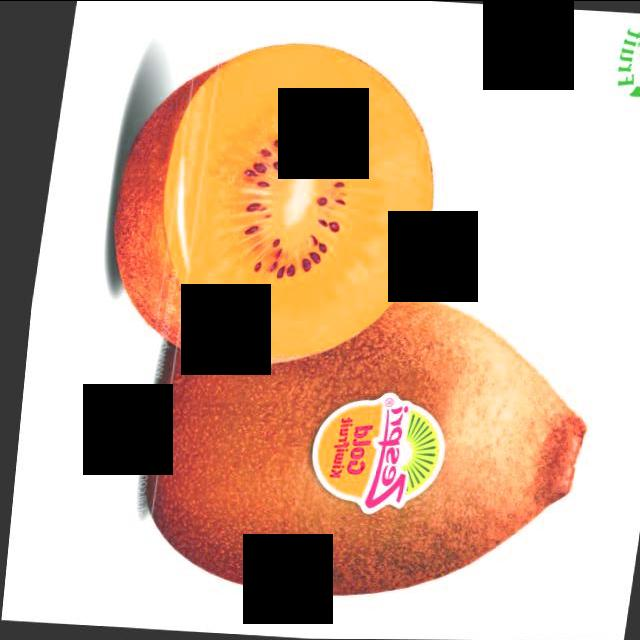kiwi: (126, 279, 601, 609)
